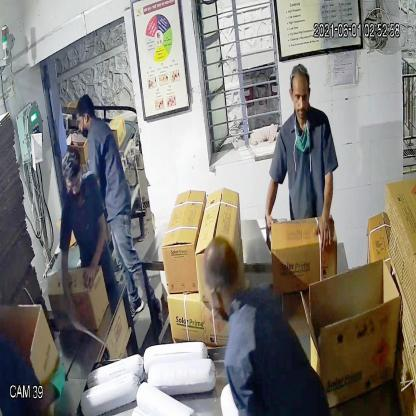goggles: (60, 167, 87, 196)
no_goggles: (287, 82, 315, 110)
